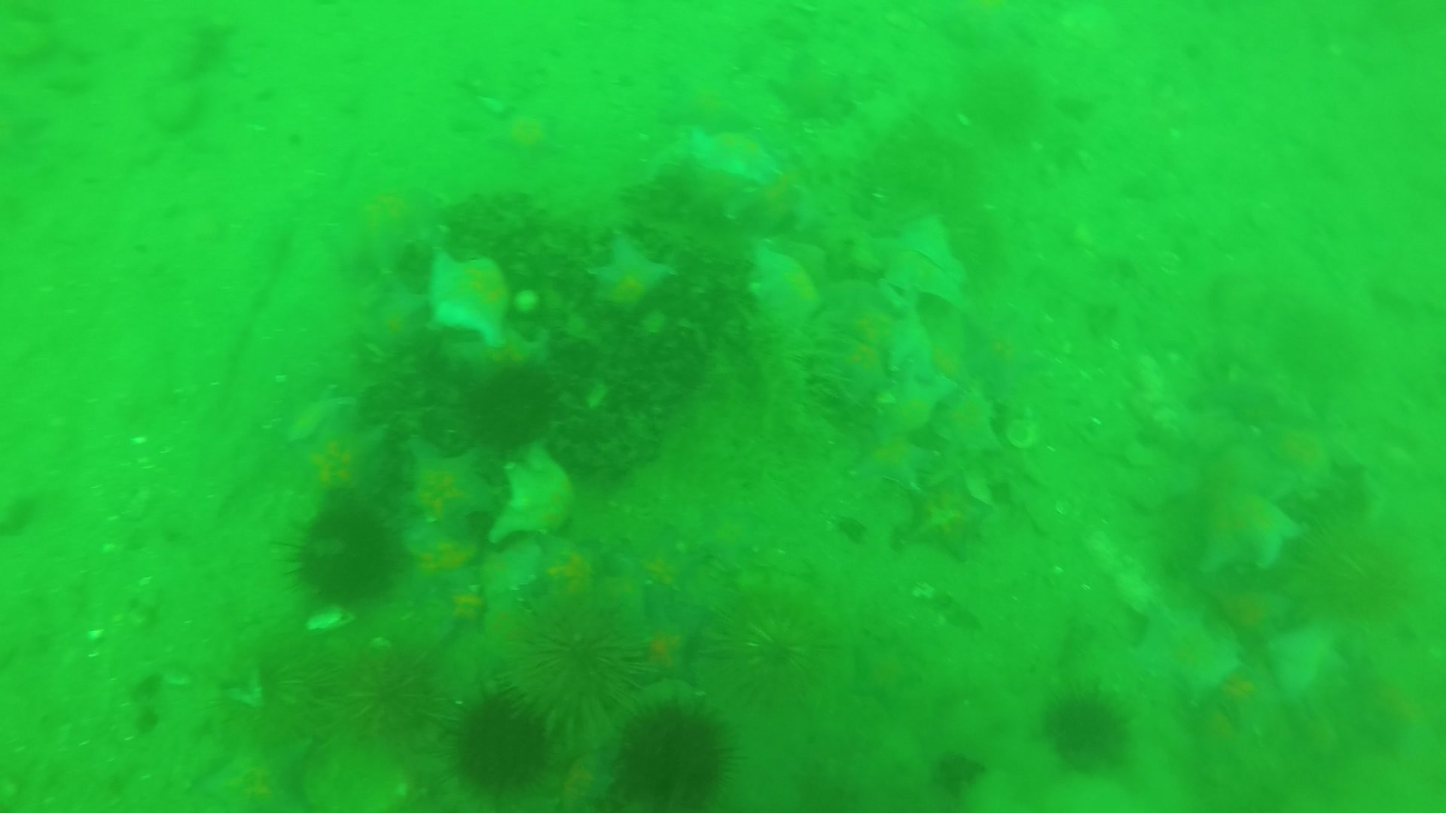echinus: (734, 309, 831, 431)
holothurian: (1118, 598, 1234, 699), (326, 175, 444, 273), (375, 443, 496, 537), (414, 244, 522, 347), (874, 206, 972, 303), (737, 242, 841, 333), (850, 358, 962, 442), (648, 117, 769, 194), (1196, 485, 1299, 575), (848, 295, 952, 383), (926, 370, 1008, 473), (423, 564, 516, 653), (294, 419, 389, 506), (494, 450, 584, 540), (1268, 622, 1353, 710), (889, 473, 977, 556), (586, 233, 667, 319), (522, 549, 609, 620), (1218, 571, 1287, 656), (1203, 659, 1278, 734)
starfish: (492, 590, 649, 729), (218, 643, 350, 755), (610, 705, 743, 813), (289, 492, 410, 607), (719, 592, 842, 695), (346, 647, 453, 744), (1042, 676, 1140, 763), (450, 689, 541, 781)
